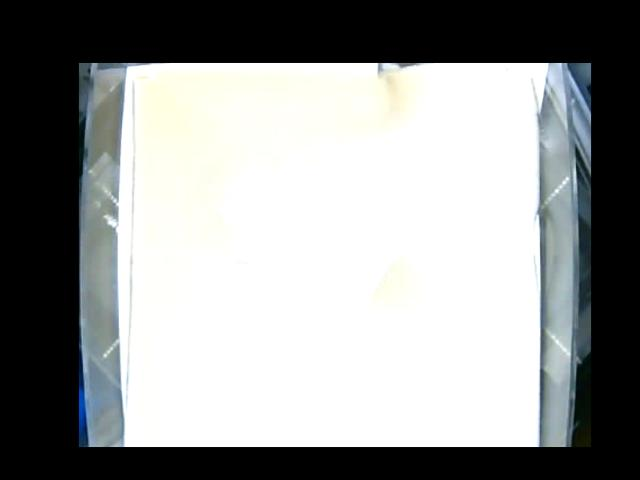Bottle: (221, 167, 400, 313)
